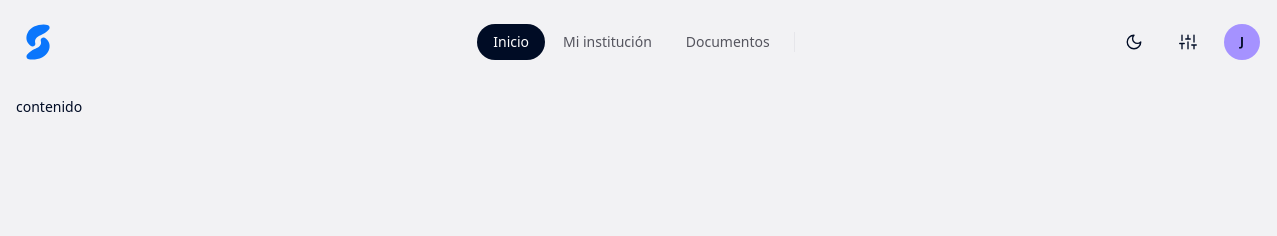
Test: the menu shows what each person may use › an entry of the gear takes the person to its page and closes the menu
Click the button named "Configuración".
click(1188, 42)  # box [1166, 20, 1210, 64]
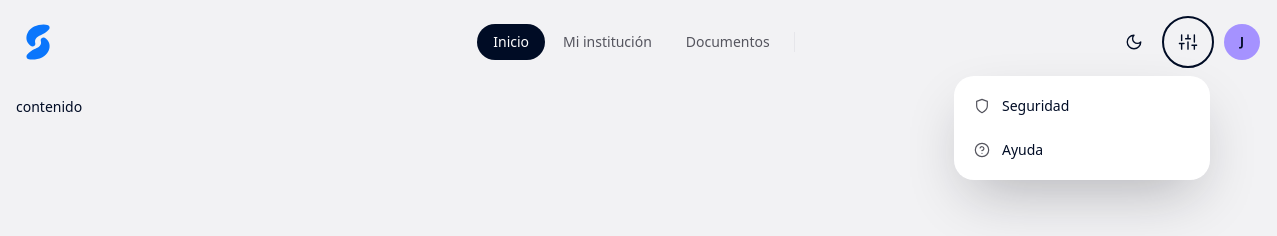
Click the menu item "Seguridad".
click(1082, 106)  # box [962, 84, 1202, 128]
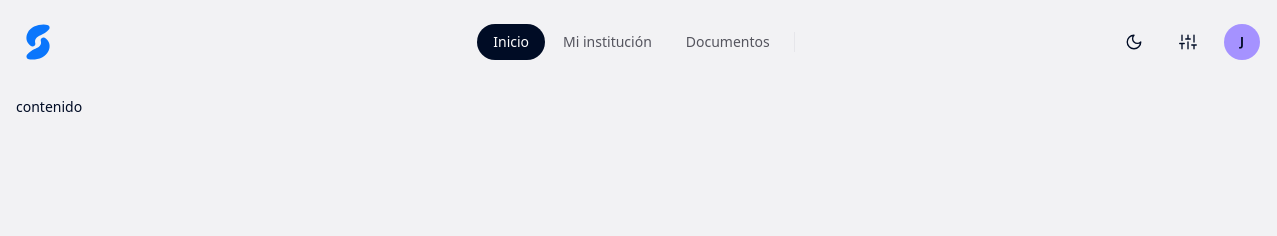
Expected: the menu is gone
